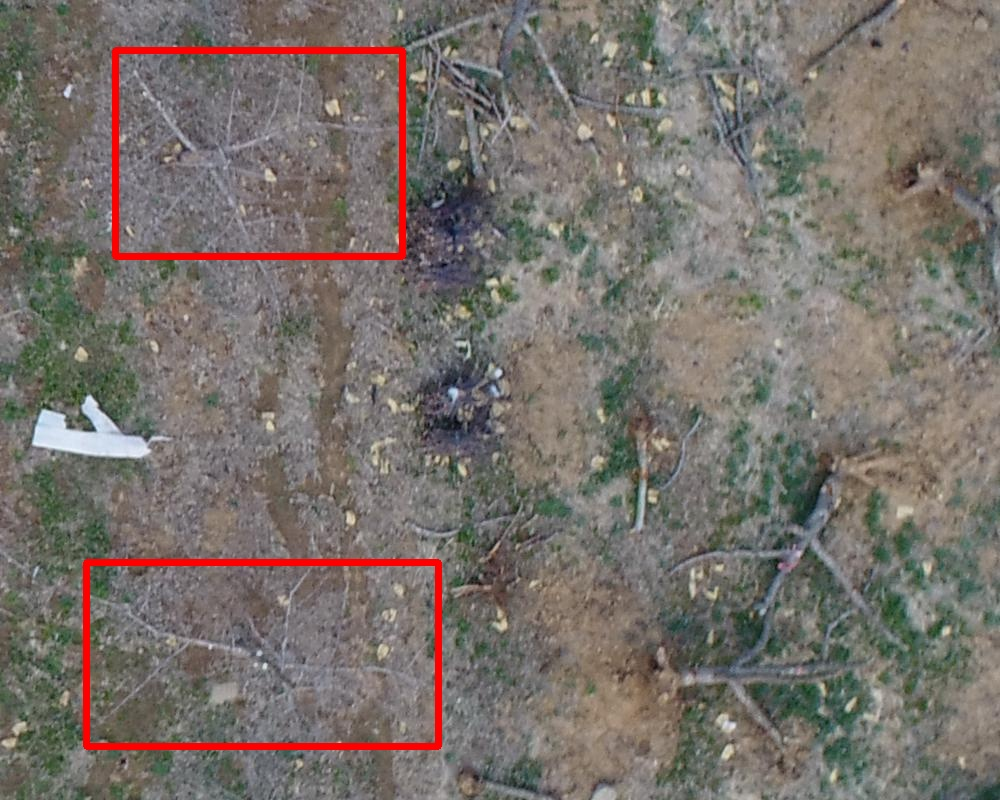apple: (86, 562, 438, 746), (115, 50, 402, 256)
